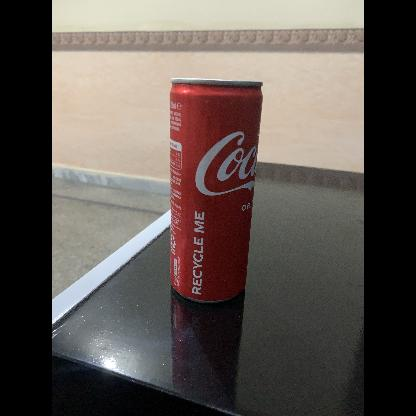Tin_Can: (162, 71, 265, 313)
